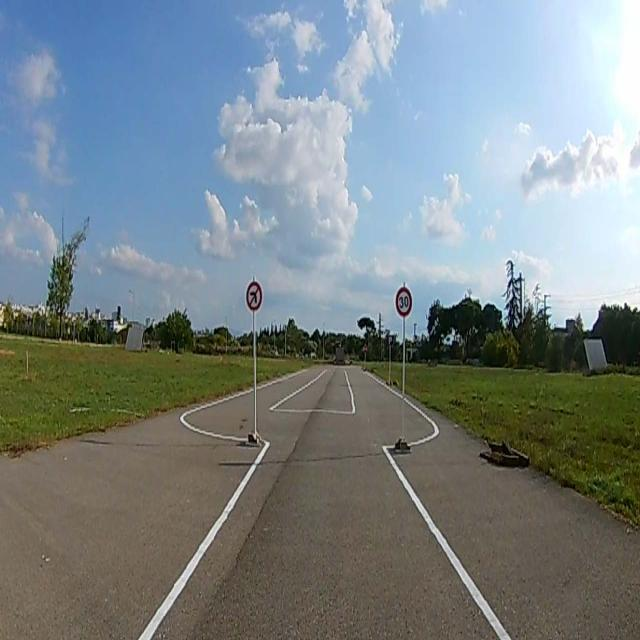30: (395, 288, 413, 316)
soladonulmez: (246, 282, 262, 311)
